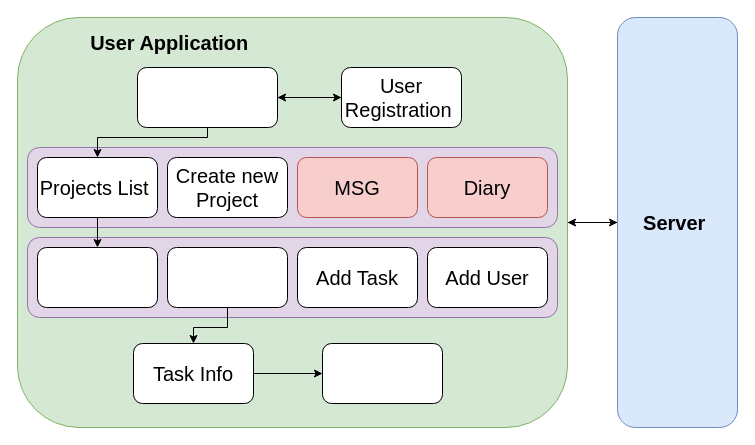
Some shapes in this 755 by 445 pixel diagram are drawn without their labels. The shapes that lost their labels are listed below. From the top down, each one's box as (x1, y1, x2, y2) in pixels, then its label:
(136, 66, 278, 128): User authentication
(36, 246, 158, 308): Project Home
(166, 246, 288, 308): Project Overview
(322, 342, 442, 404): Task Overview
